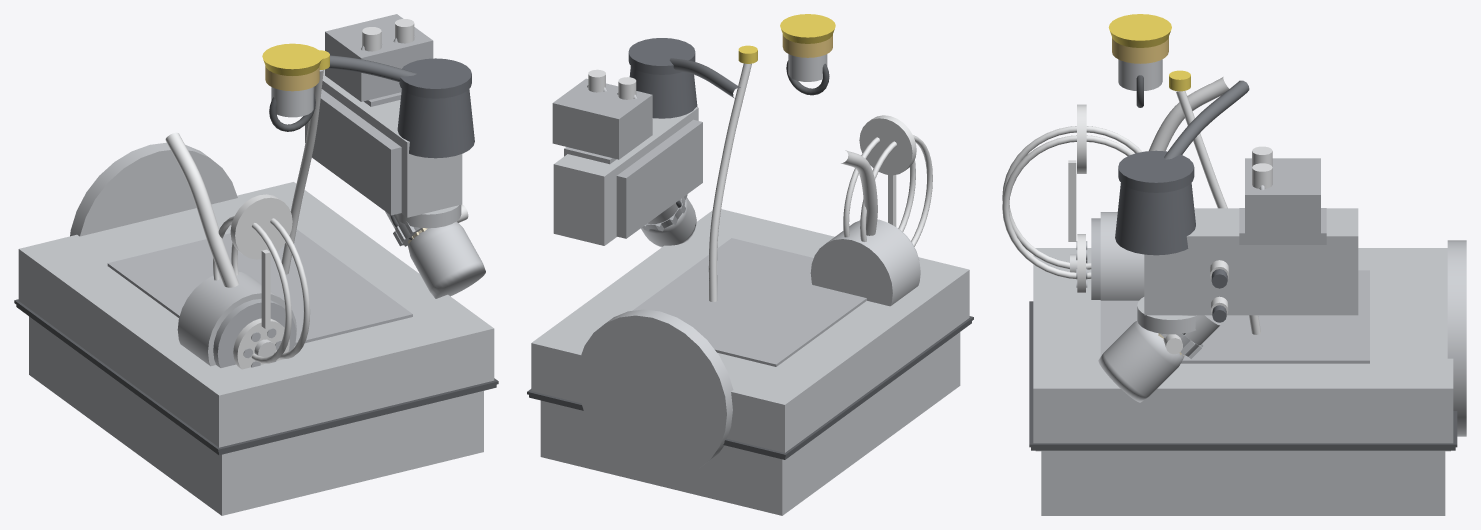
The model's file is oil.glb.
3 views of the same model, side by side, from view 1: azimuth 30°, elevation 25°; view 2: azimuth 150°, elevation 25°; view 3: azimuth 270°, elevation 25° (orthographic). The views are drawn at different scales.
Visible parts, largest first — view 1: oilSumpUpperPart, sumpBody, sumpUpperVoid, sealingFlange, conductFlange, conductBody, coolerBody, separatorBody, pumpBody, filterCoverDome, crankSprocket, sumpSealBeadOuter (+15 smaller); view 2: oilSumpUpperPart, sealingFlange, sumpBody, sumpUpperVoid, conductBody, pumpBody, conductFlange, coolerBody, crankSprocket, separatorBody, dipstickTube, separatorCap (+10 smaller); view 3: oilSumpUpperPart, sumpBody, conductBody, sumpUpperVoid, coolerBody, separatorBody, filterCoverDome, sealingFlange, sumpSealBeadOuter, pumpBody, separatorCap, chainRunR (+16 smaller).
Part boxes in pixels (x1,y1,x2,y2): oilSumpUpperPart: (18,182,494,447); sumpBody: (29,316,483,515); sumpUpperVoid: (107,229,412,345); sealingFlange: (70,142,237,236); conductFlange: (308,89,401,215); conductBody: (305,69,462,217); coolerBody: (325,14,433,101); separatorBody: (397,89,474,158); pumpBody: (177,272,296,366); filterCoverDome: (408,221,485,298); crankSprocket: (230,194,292,259); sumpSealBeadOuter: (14,299,498,452); oilSumpUpperPart: (531,209,969,452); sealingFlange: (577,309,733,476); sumpBody: (540,332,960,515); sumpUpperVoid: (633,238,866,366); conductBody: (553,107,698,245); pumpBody: (810,219,920,306); conductFlange: (616,119,702,238); coolerBody: (552,78,652,159); crankSprocket: (859,115,916,175); separatorBody: (629,66,697,118); dipstickTube: (708,63,751,301); separatorCap: (628,38,695,74); oilSumpUpperPart: (1033,248,1453,443); sumpBody: (1041,451,1445,515); conductBody: (1144,208,1358,315); sumpUpperVoid: (1100,270,1369,363); coolerBody: (1245,158,1320,240); separatorBody: (1115,183,1195,255); filterCoverDome: (1098,320,1184,402); sealingFlange: (1447,240,1466,436); sumpSealBeadOuter: (1029,301,1457,447); pumpBody: (1100,212,1144,300); separatorCap: (1118,150,1194,192); chainRunR: (1002,135,1134,278).
Bounding box in the file's own units: 2.47 × 3.07 × 2.93.
